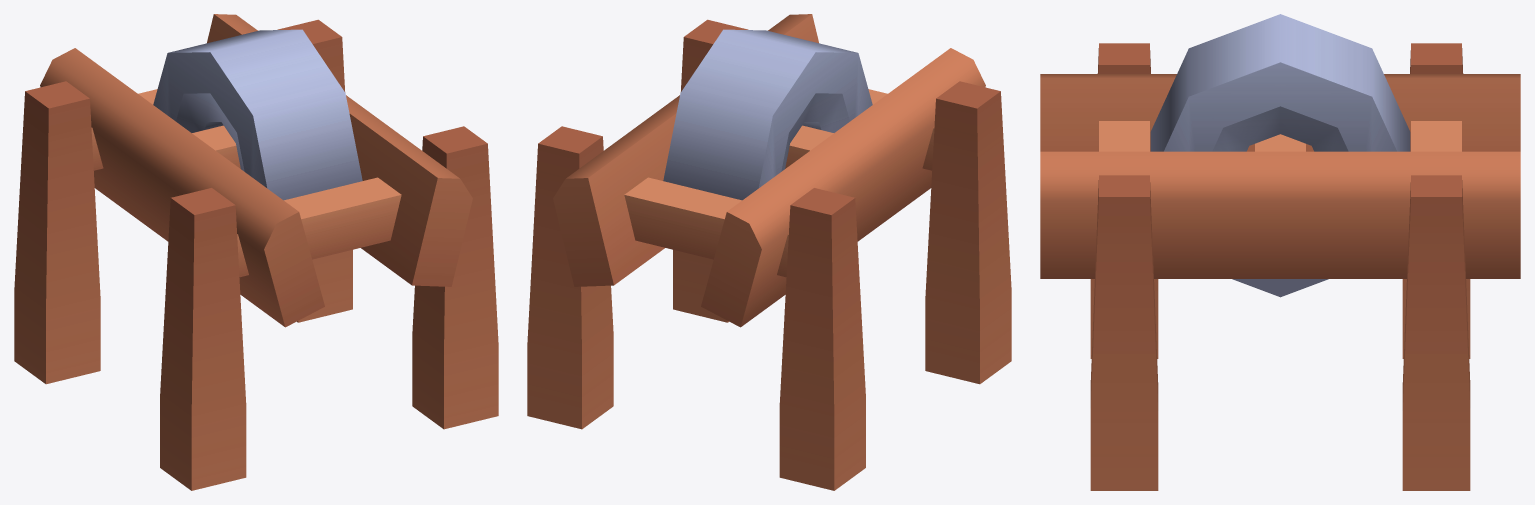
File: workbench-grind.glb
3 renders of one model, left to right at view 1: azimuth 30°, elevation 25°; view 2: azimuth 150°, elevation 25°; view 3: azimuth 270°, elevation 25°, orthographic. The views are drawn at different scales.
Visible parts, largest first — view 1: workbench-grind, wheel; view 2: workbench-grind, wheel; view 3: workbench-grind, wheel.
Part boxes in pixels (x1,y1,x2,y2): workbench-grind: [14, 14, 498, 490]; wheel: [153, 29, 362, 200]; workbench-grind: [527, 14, 1011, 490]; wheel: [663, 29, 872, 200]; workbench-grind: [1040, 43, 1520, 490]; wheel: [1150, 14, 1410, 297].
Bounding box in the file's own units: 0.2604 × 0.2817 × 0.329.
1 material, 1 textured.
